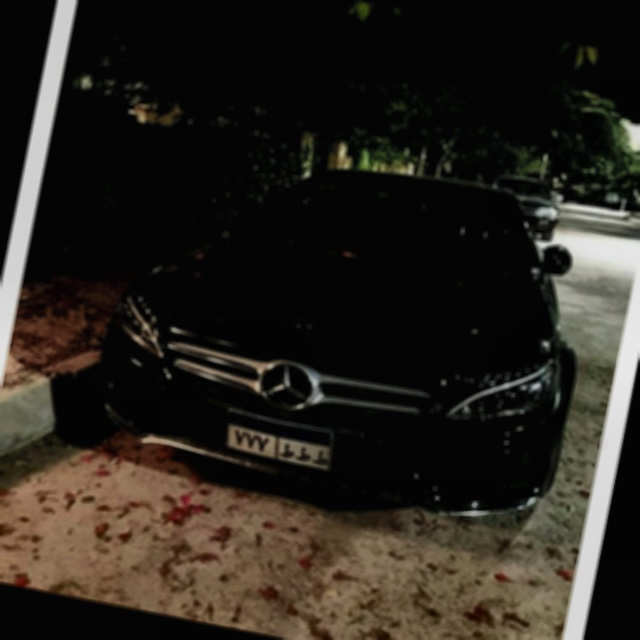License Plate: (216, 405, 341, 474)
